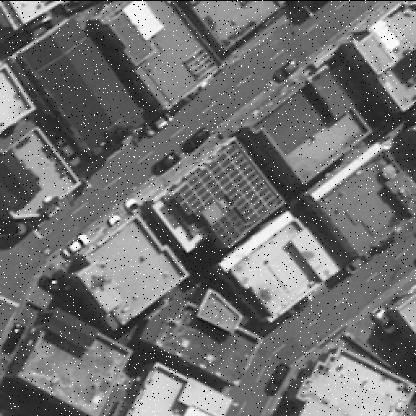solar-pv-panel: (171, 143, 282, 249)
